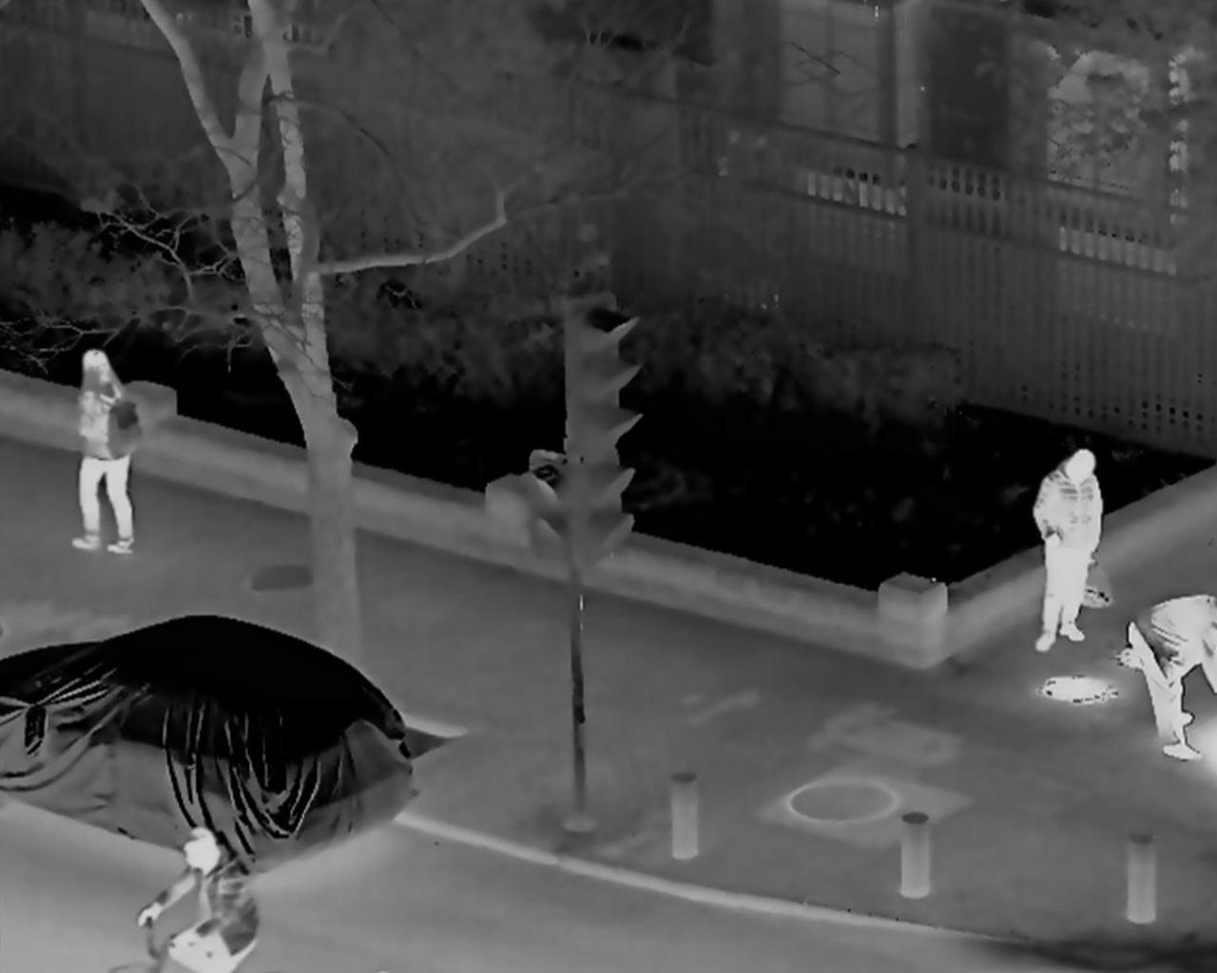person: (140, 829, 258, 973), (71, 349, 144, 560), (1128, 586, 1217, 752), (1033, 449, 1102, 653)
